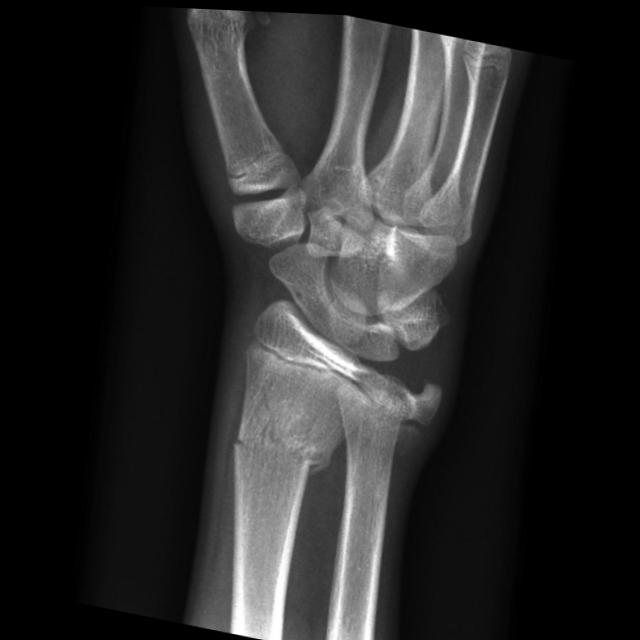fracture: (227, 428, 325, 474), (245, 382, 279, 446)
